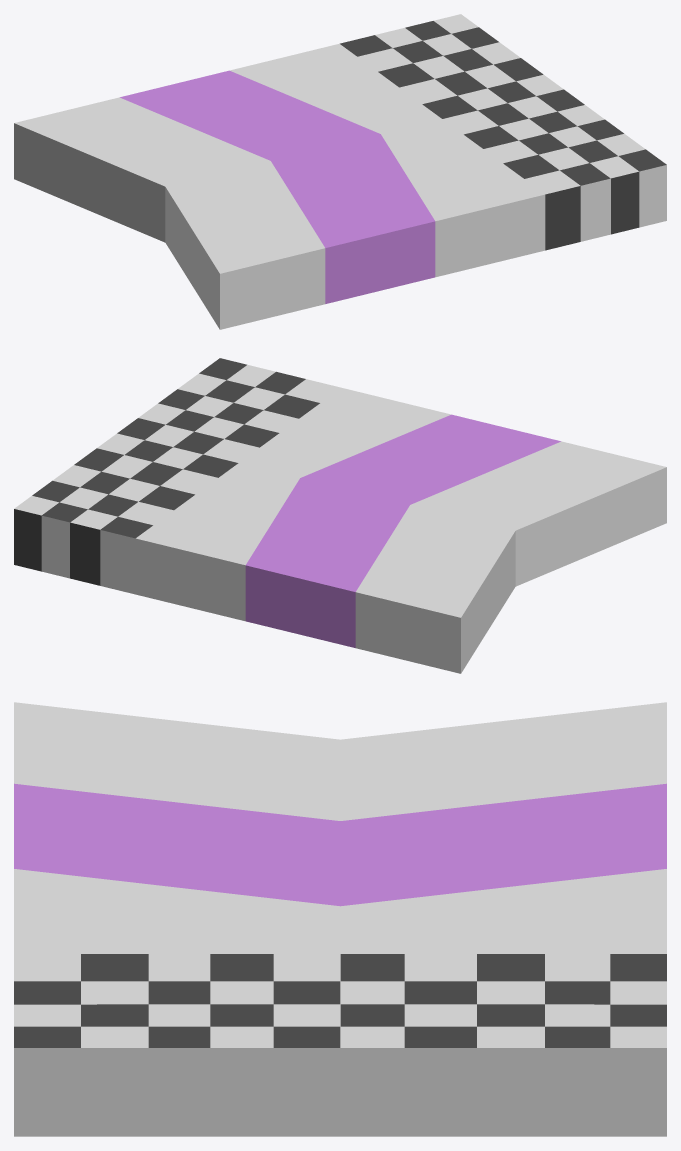
File: Platform End.fbx
3 views of the same model, one above another, from view 1: azimuth 30°, elevation 25°; view 2: azimuth 150°, elevation 25°; view 3: azimuth 270°, elevation 25° (orthographic). The views are drawn at different scales.
Visible parts, largest first — view 1: Cube; view 2: Cube; view 3: Cube.
Part boxes in pixels (bbox=[...]): Cube: bbox=[14, 14, 666, 329]; Cube: bbox=[14, 358, 666, 673]; Cube: bbox=[14, 702, 666, 1136].
Bounding box in the file's own units: 415 × 49.73 × 331.
